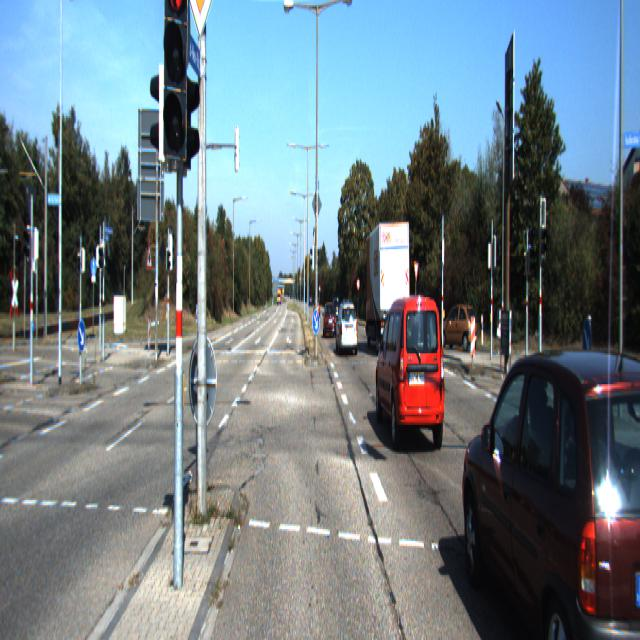Car: (462, 334, 640, 638), (375, 289, 446, 459), (364, 218, 411, 358), (439, 300, 478, 352), (336, 300, 358, 358), (323, 302, 337, 340)
